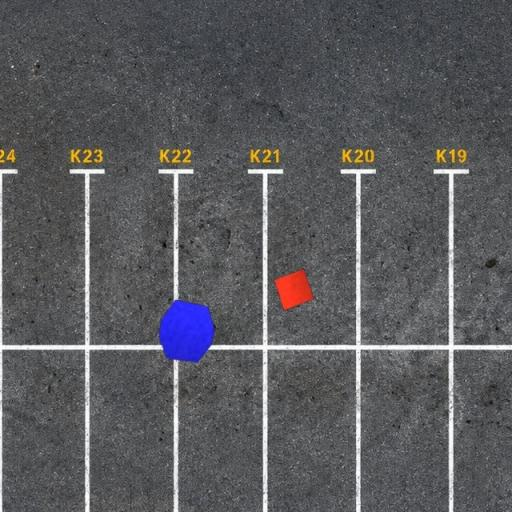RED_SQUARE: (274, 268, 314, 311)
